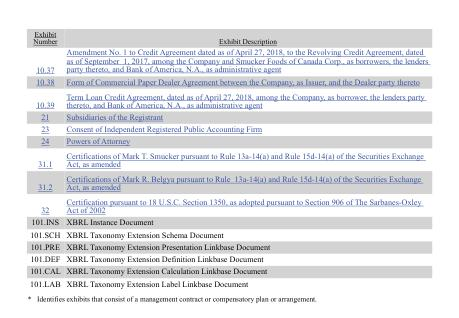table: (29, 29, 427, 287)
table column: (62, 29, 427, 287), (29, 29, 62, 287)
table column header: (29, 29, 427, 45)
table row: (29, 45, 427, 74), (29, 170, 427, 193), (29, 88, 427, 110), (29, 148, 427, 170), (29, 193, 427, 215), (29, 29, 427, 45), (29, 74, 427, 88), (29, 134, 427, 148), (29, 239, 427, 252), (29, 110, 427, 122), (29, 122, 427, 134), (29, 215, 427, 227), (29, 227, 427, 239), (29, 252, 427, 264), (29, 264, 427, 276), (29, 276, 427, 287)
